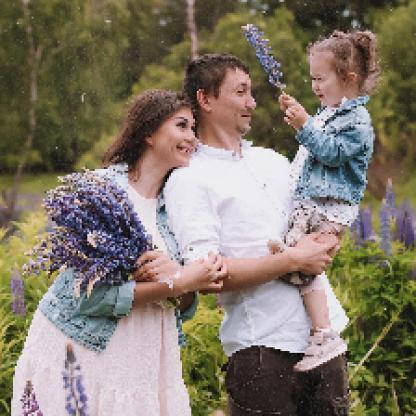child: (277, 29, 379, 373)
